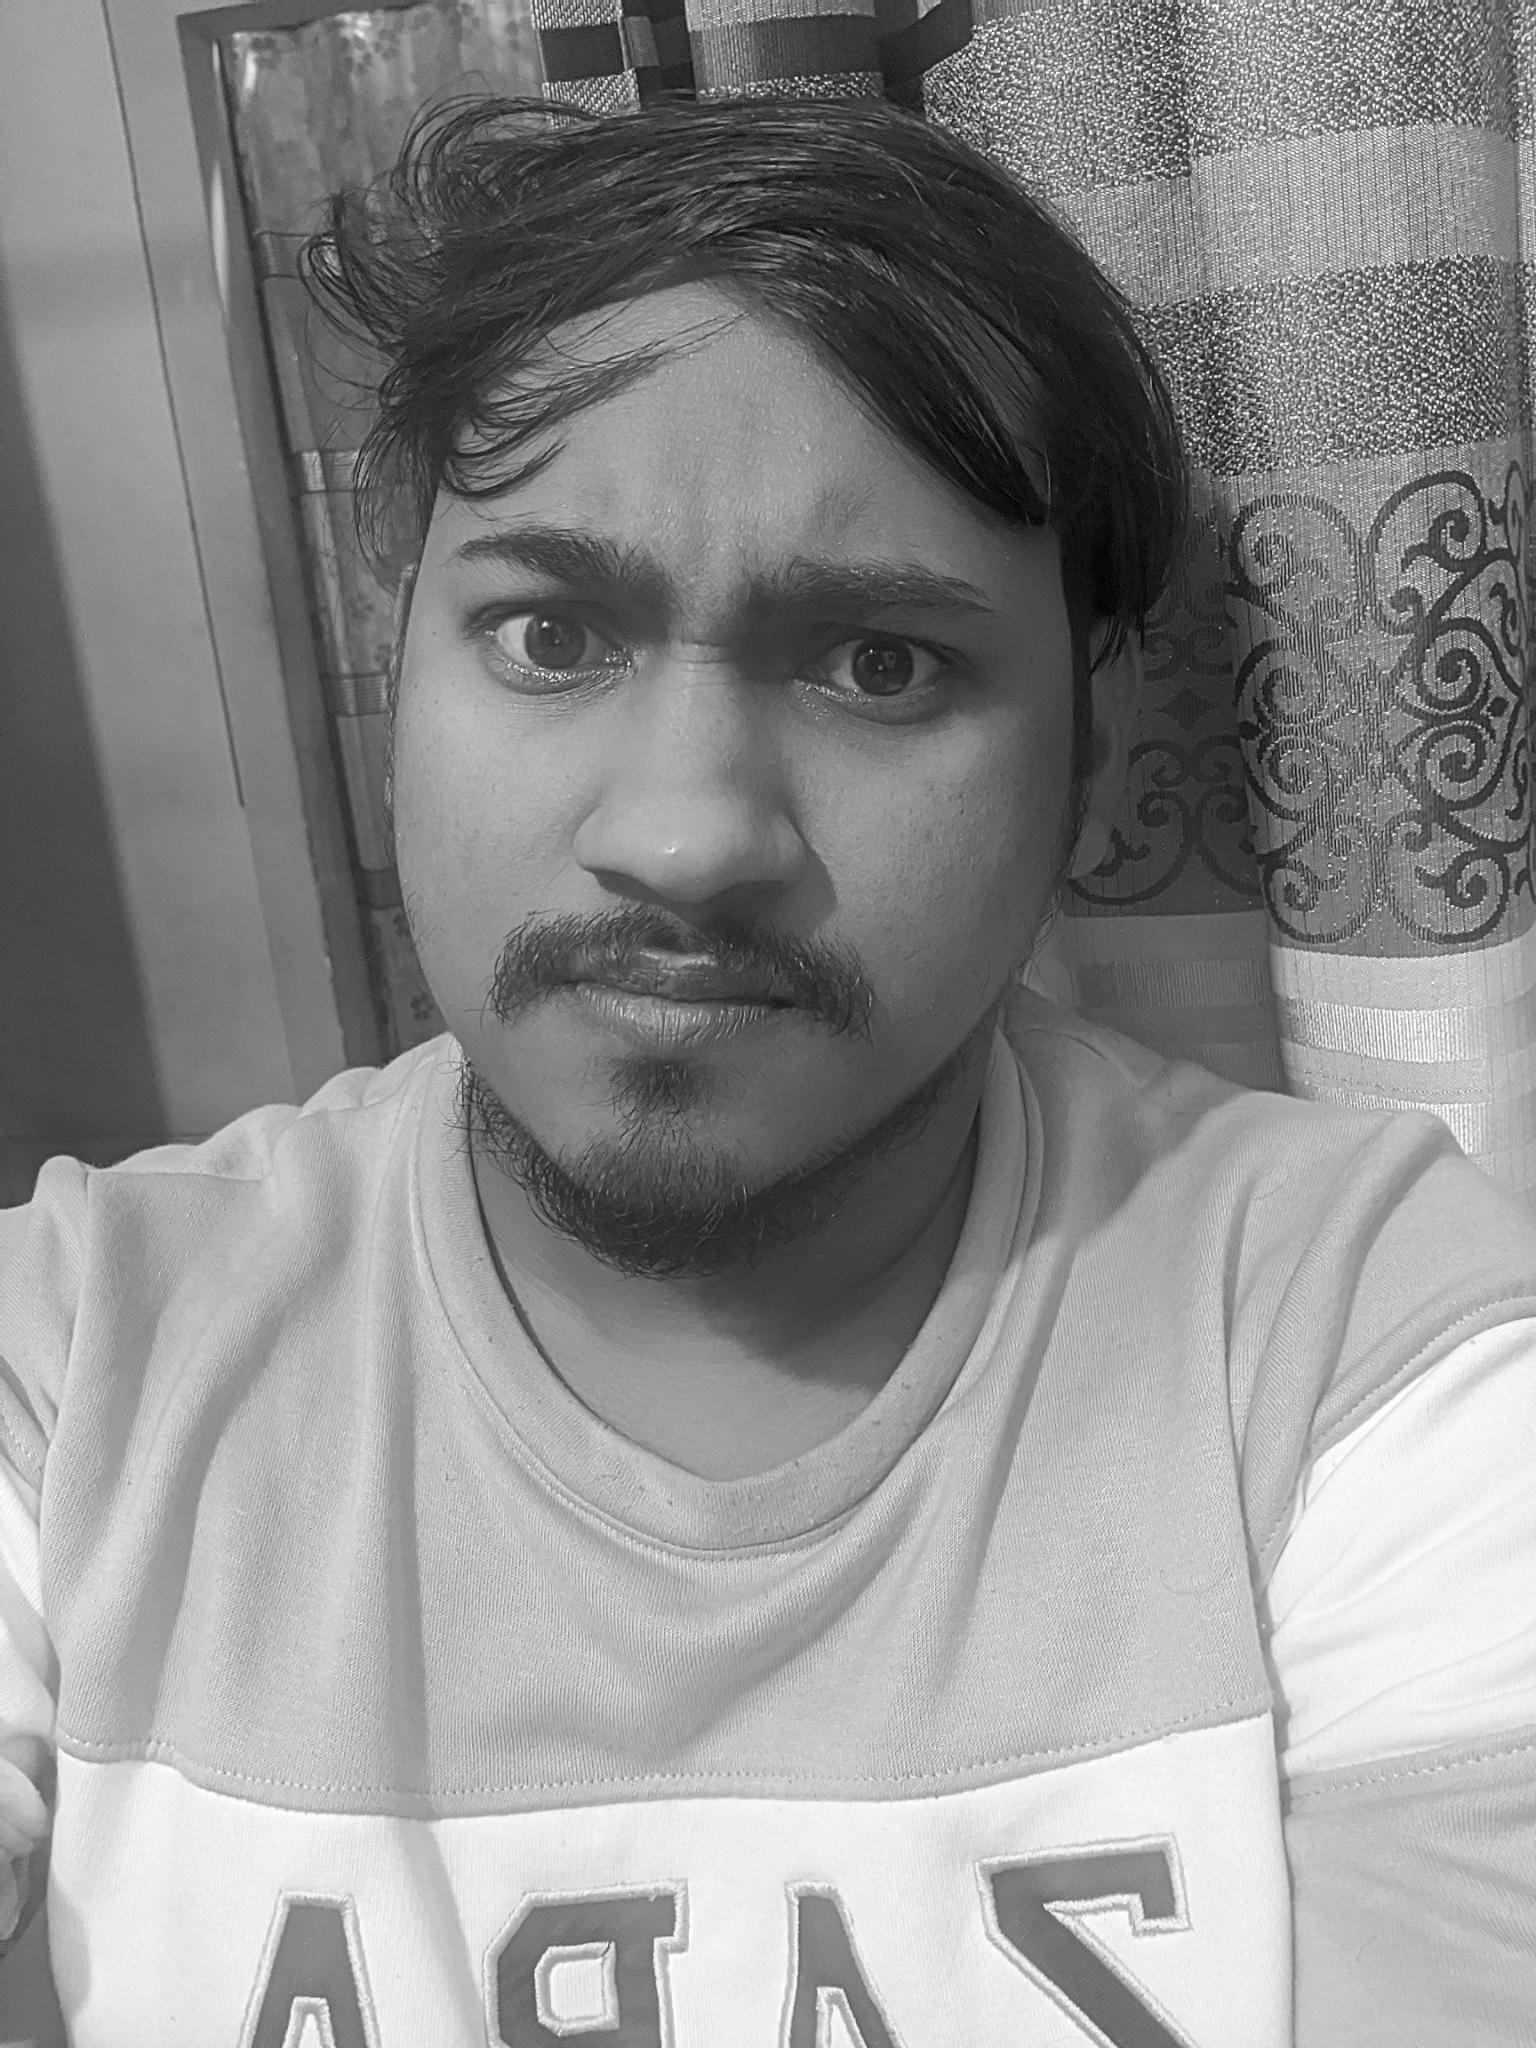Angry: (405, 427, 1063, 1264)
